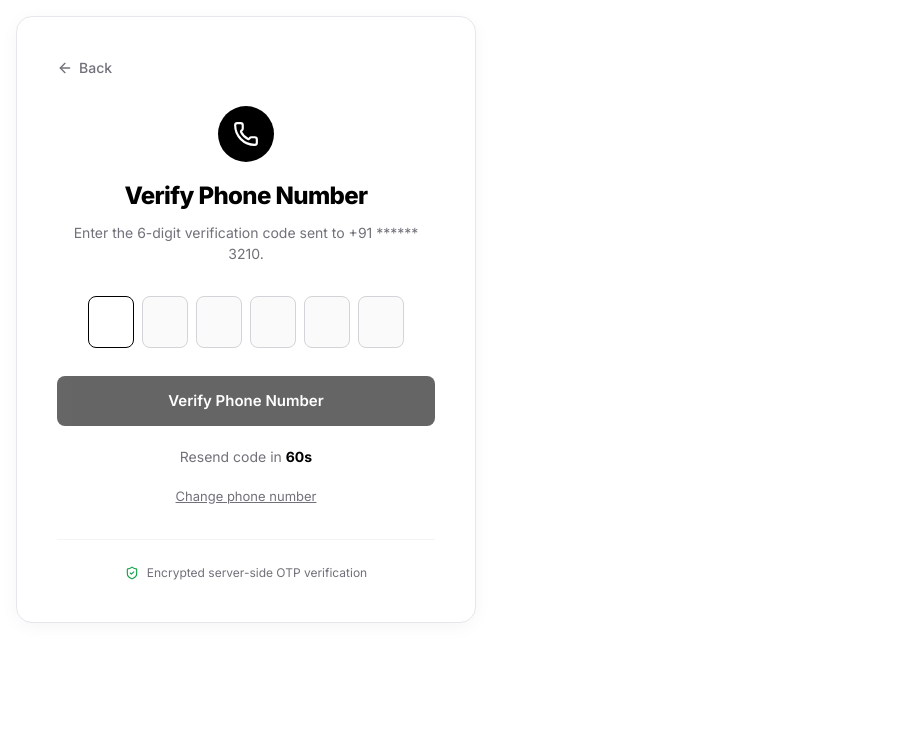
Test: VerifyPhonePage Component › displays backend error message on invalid OTP submission
Type "9" into the field named "Digit 1". click: (111, 322)
box: [88,296,134,348]
Type "9" into the field named "Digit 2". click: (165, 322)
box: [142,296,188,348]
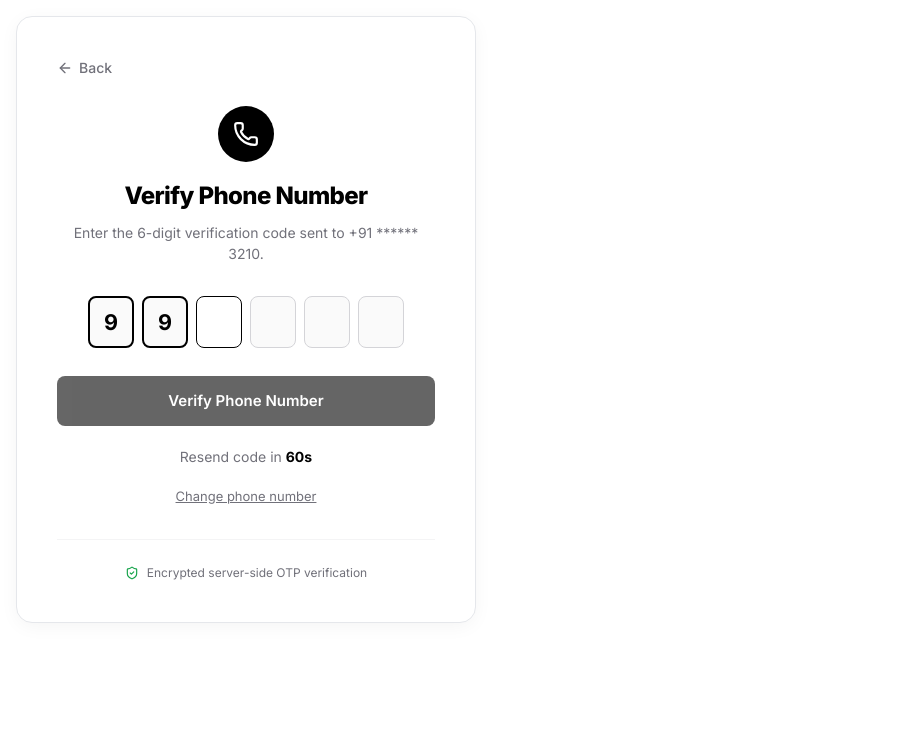
Type "9" into the field named "Digit 3". click: (219, 322)
box: [196,296,242,348]
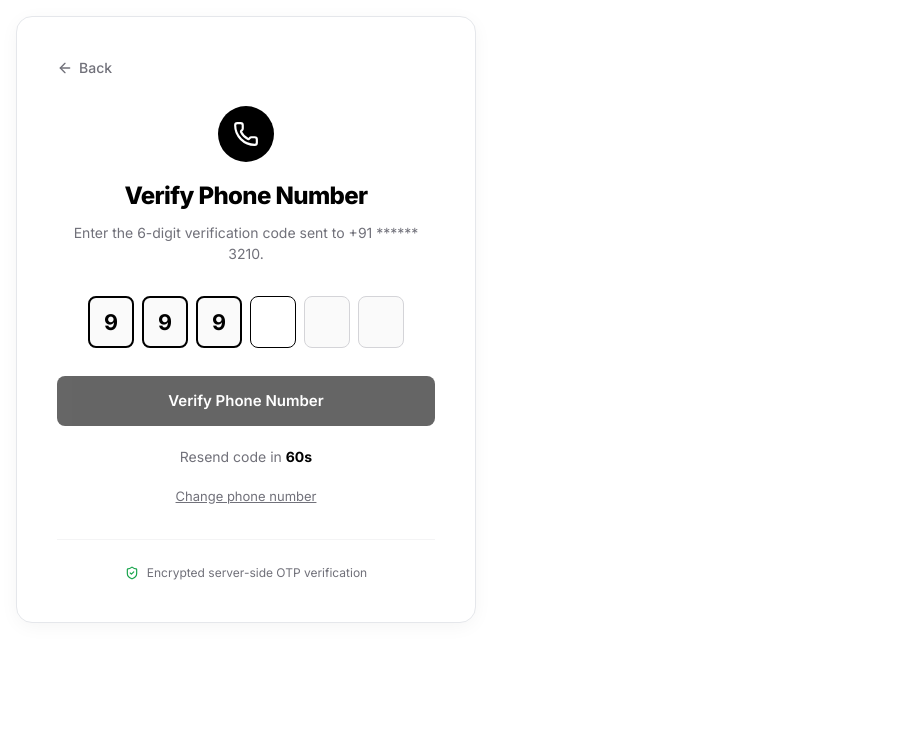
Type "9" into the field named "Digit 4". click: (273, 322)
box: [250,296,296,348]
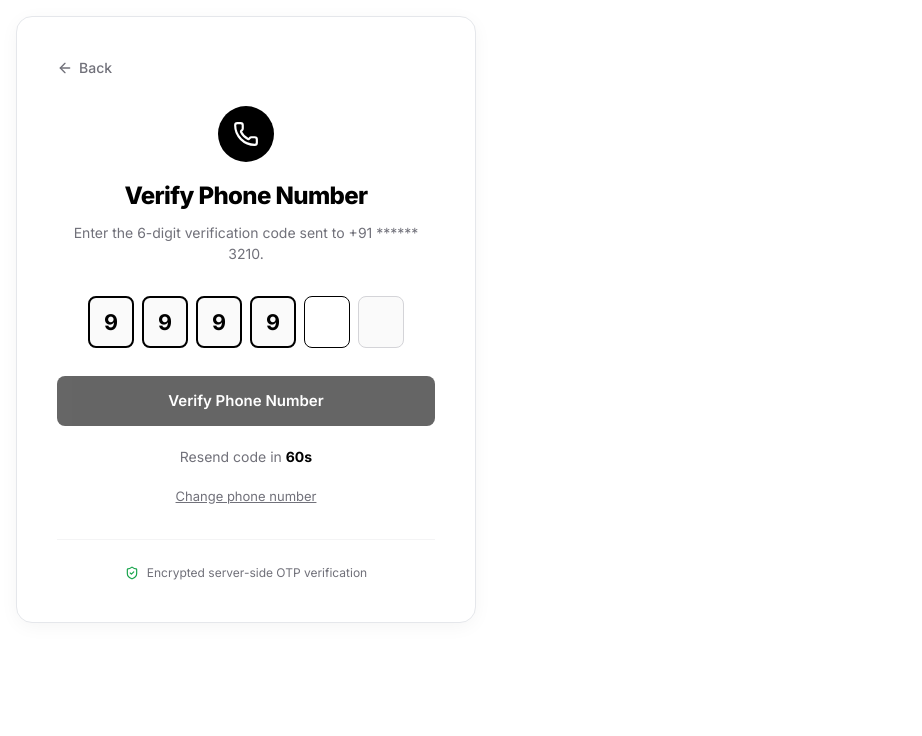
Type "9" into the field named "Digit 5". click: (327, 322)
box: [304,296,350,348]
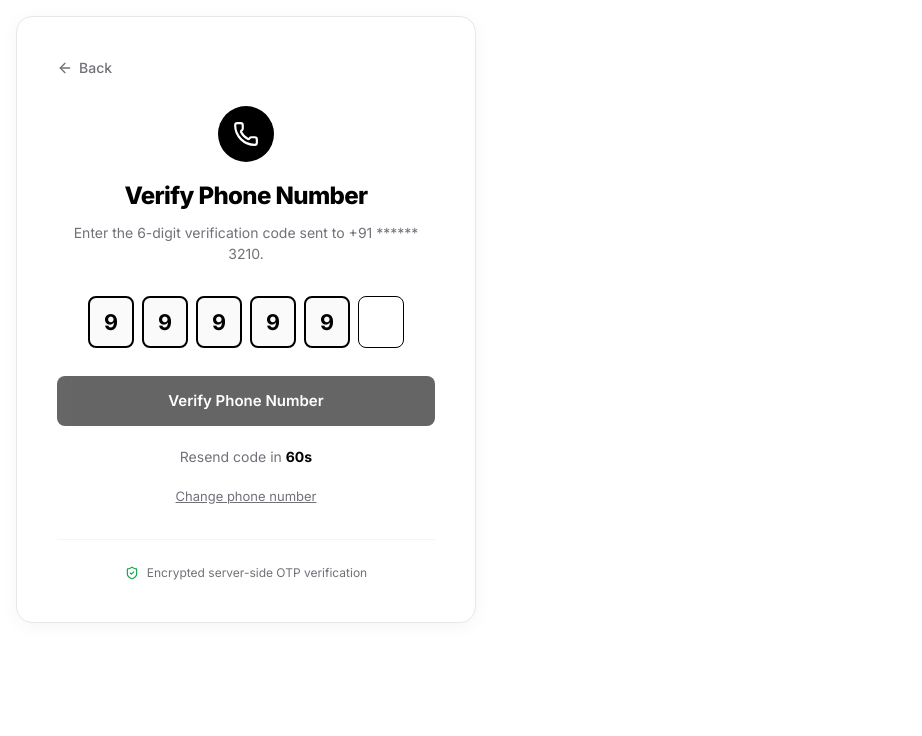
Type "9" into the field named "Digit 6". click: (381, 322)
box: [358,296,404,348]
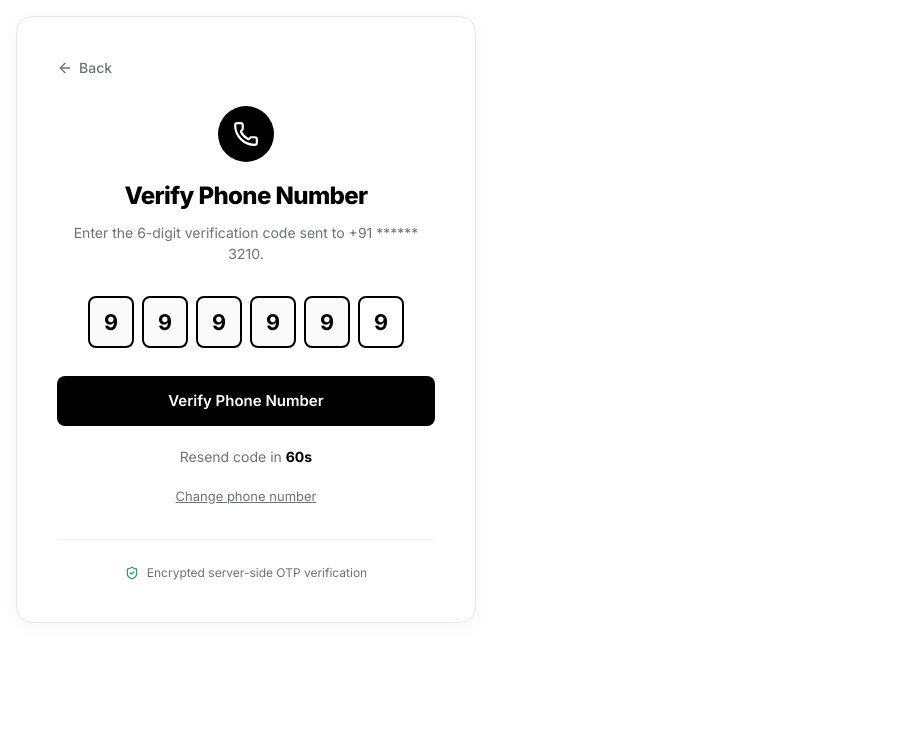
Click the button "Verify Phone Number". click: click(246, 401)
box: [57,376,435,426]
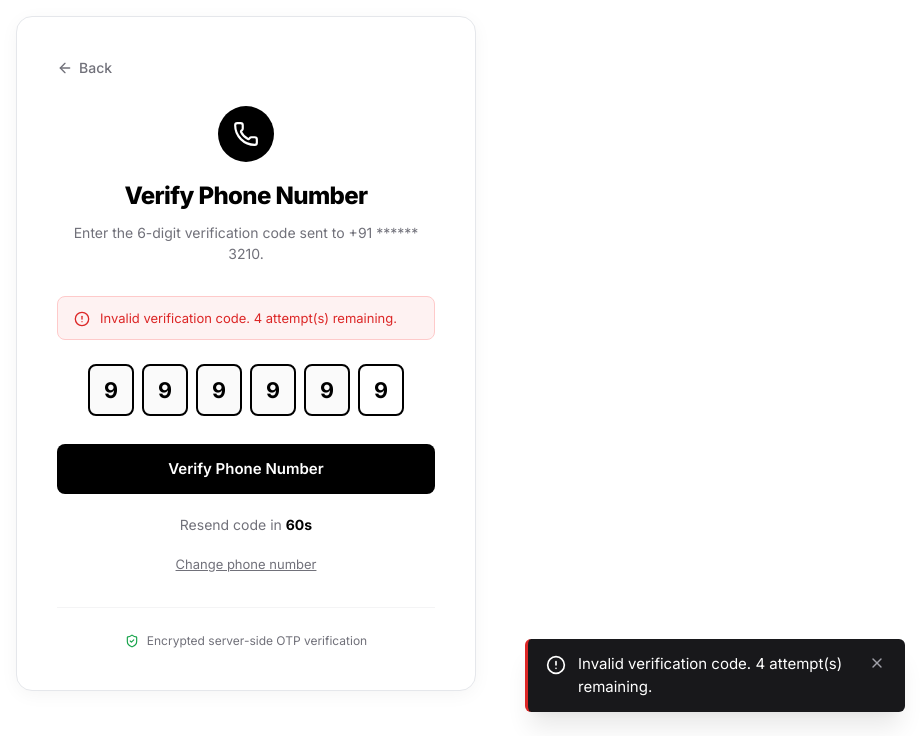
Now the 1st text "Invalid verification code. 4 attempt(s) remaining." is shown, box [100,308,397,327]
